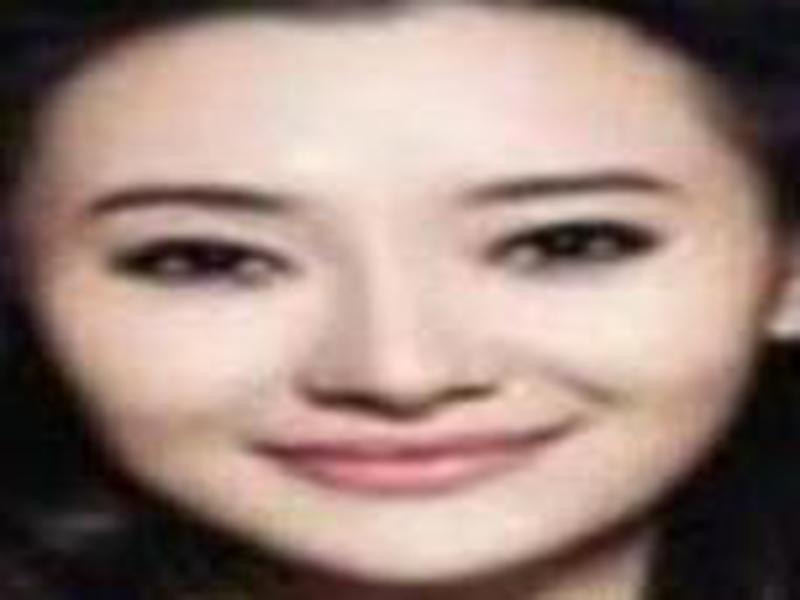without_mask: (34, 33, 736, 582)
